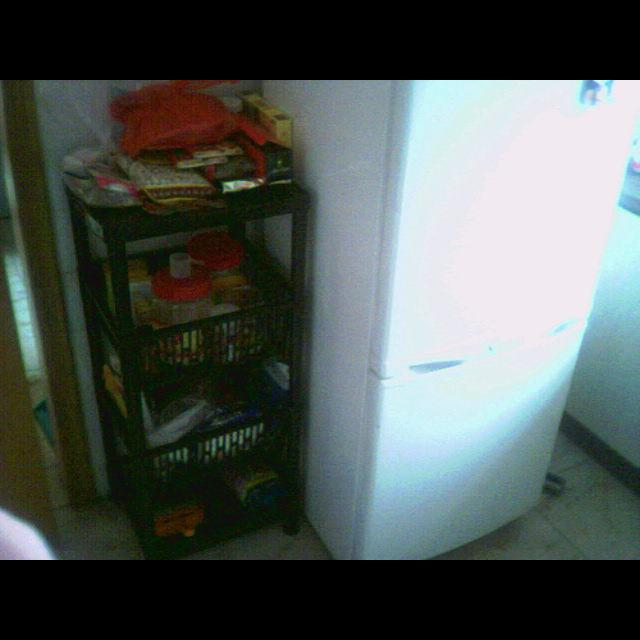Refrigerator: (259, 81, 640, 555)
